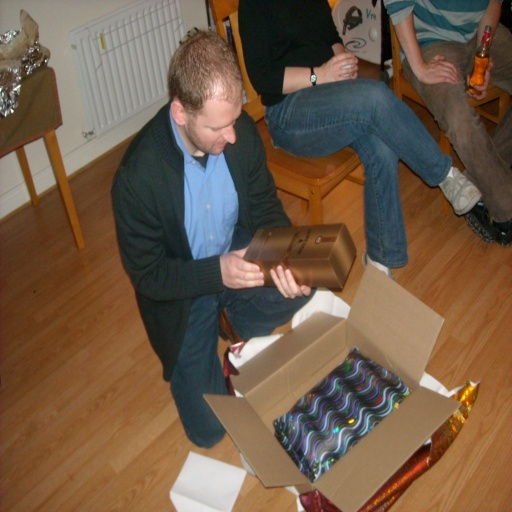hand: (319, 31, 369, 81), (218, 246, 264, 293), (268, 262, 312, 297), (463, 56, 494, 104), (418, 54, 460, 87), (352, 54, 360, 80)
